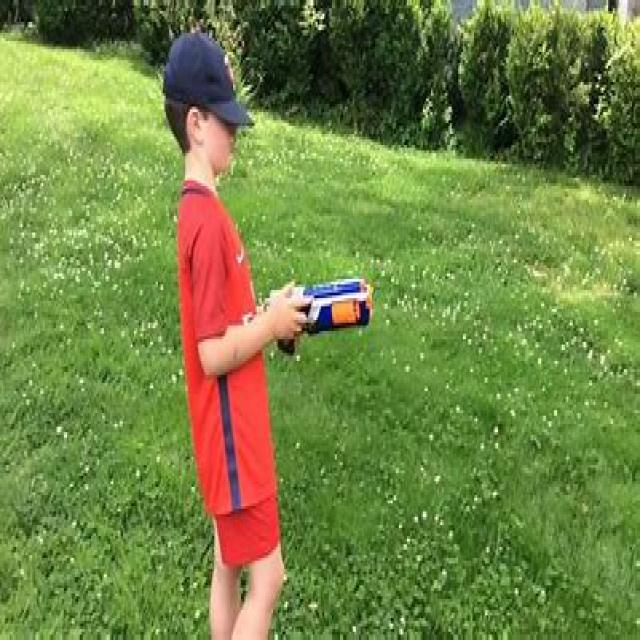nerf-maverik: (276, 262, 379, 374)
